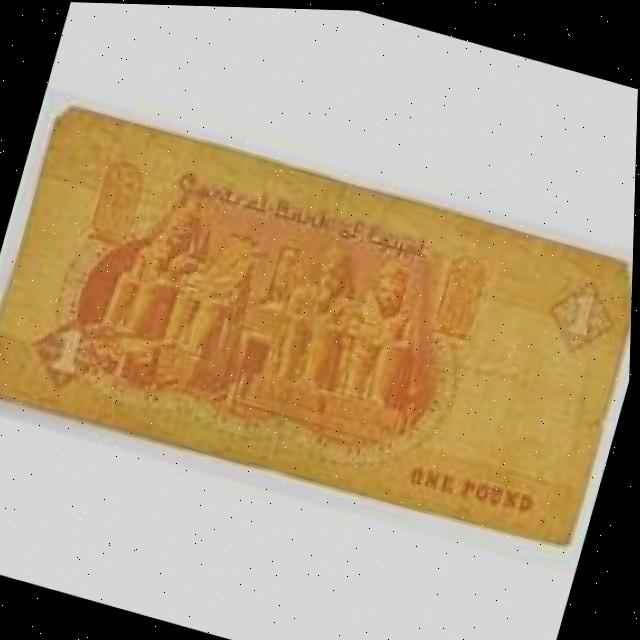banknote: (0, 91, 638, 556)
